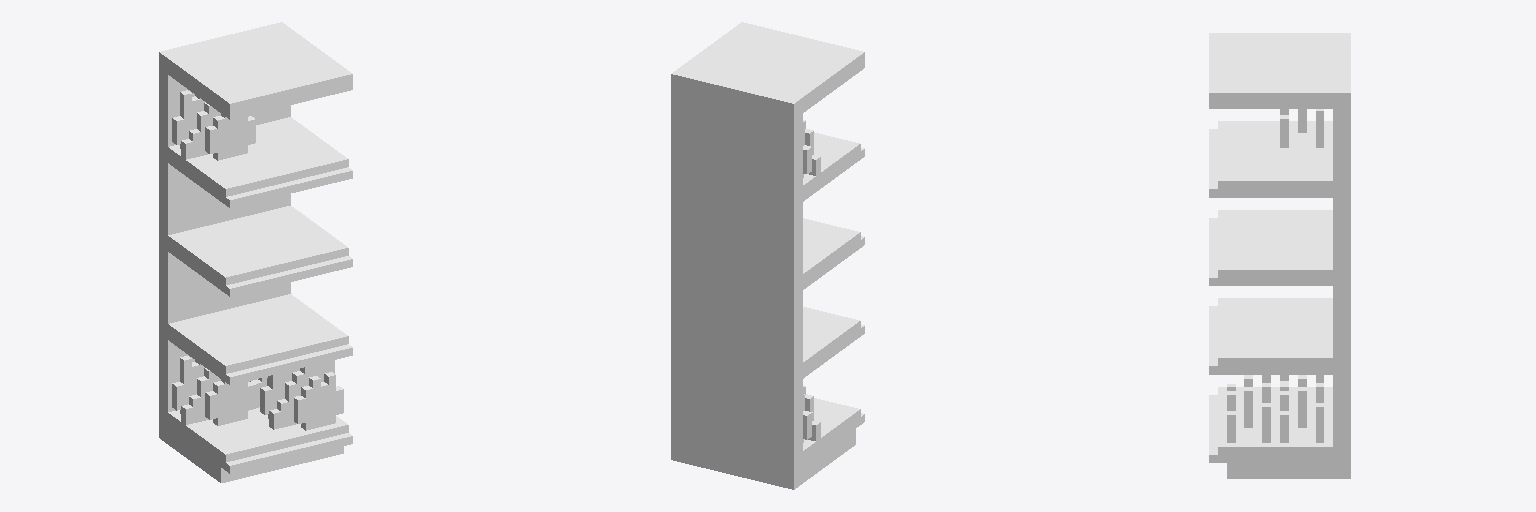
Rendered from fullVeggiesShelf3.obj.
3 views of the same model, side by side, from view 1: azimuth 30°, elevation 25°; view 2: azimuth 150°, elevation 25°; view 3: azimuth 270°, elevation 25° (orthographic).
Visible parts, largest first — view 1: object 1; view 2: object 1; view 3: object 1.
Part boxes in pixels (left/top/right/bottom): object 1: left=159, top=22, right=352, bottom=482; object 1: left=671, top=22, right=864, bottom=489; object 1: left=1209, top=33, right=1350, bottom=478.
Bounding box in the file's own units: 1.6 × 4.8 × 1.6.